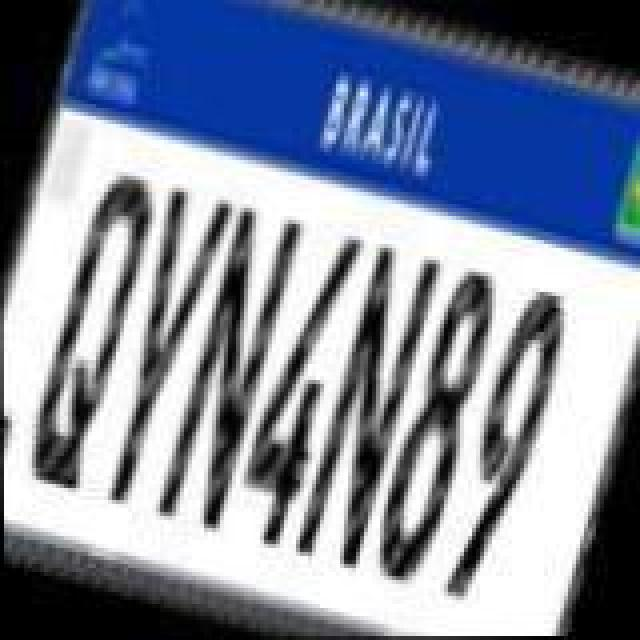4: (222, 214, 370, 550)
8: (360, 252, 512, 596)
9: (428, 270, 580, 614)
N: (150, 192, 310, 536), (290, 236, 446, 576)
Q: (14, 162, 166, 502)
Y: (84, 182, 240, 518)
